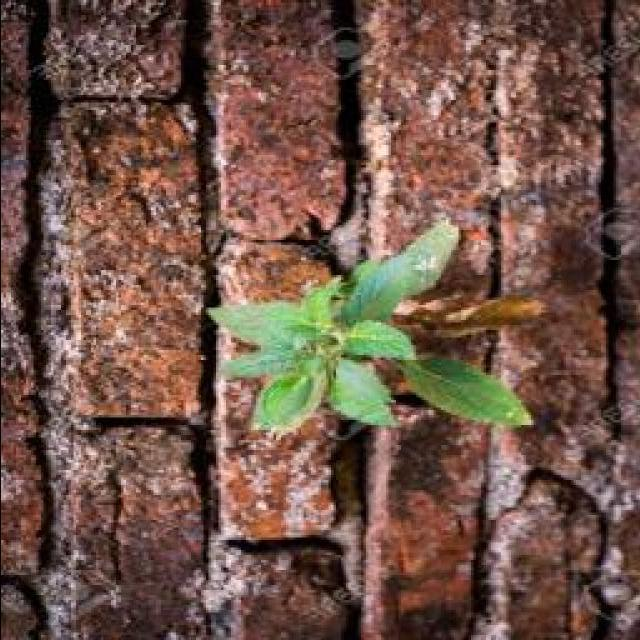crack: (1, 0, 638, 638), (173, 6, 228, 627), (11, 0, 70, 429), (352, 0, 417, 270), (68, 315, 207, 424), (320, 0, 373, 248), (207, 327, 270, 511), (28, 407, 74, 640), (215, 237, 339, 311), (593, 0, 622, 297), (186, 28, 222, 260), (171, 1, 226, 125), (15, 0, 59, 139), (99, 450, 129, 606), (81, 414, 292, 434), (1, 576, 54, 638), (288, 217, 346, 264), (225, 230, 335, 254), (118, 188, 159, 230), (65, 92, 156, 110), (69, 420, 104, 437)
dampness: (95, 425, 221, 628)
vegetation: (205, 215, 540, 437), (370, 109, 499, 227), (340, 219, 460, 328), (507, 83, 608, 210), (213, 85, 340, 184), (209, 299, 330, 377), (525, 1, 637, 83), (9, 560, 125, 634), (313, 24, 368, 81), (620, 15, 640, 17)
